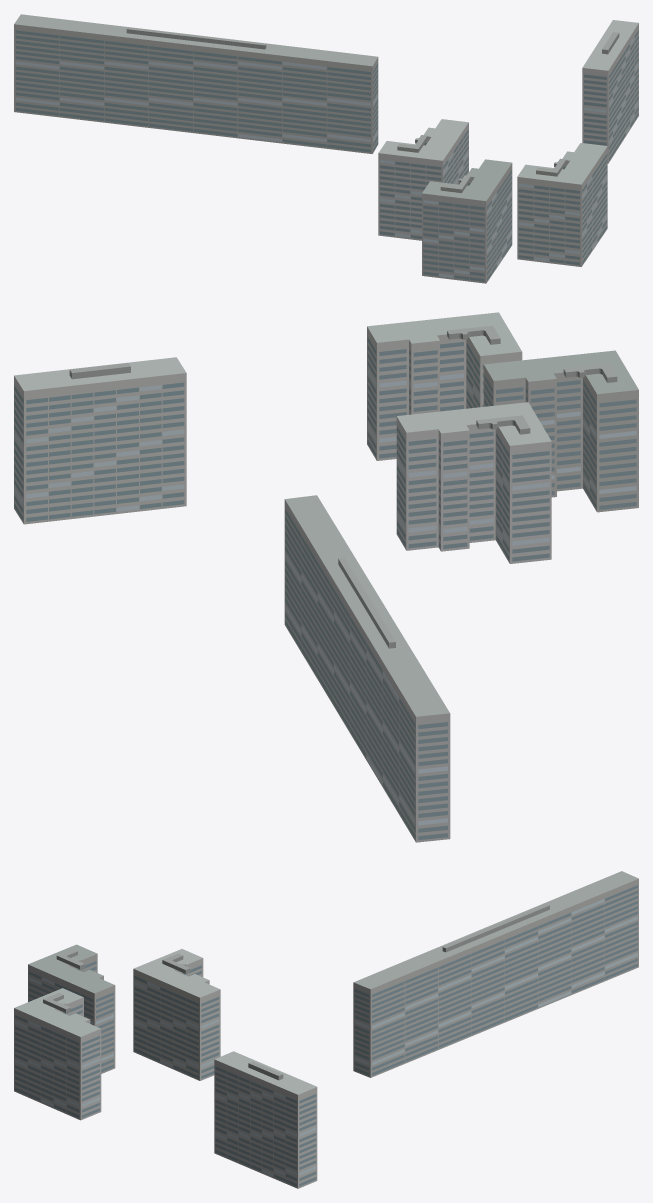
File: apt-a10025675.glb
The picture shows the model from 3 angles, top to bottom: view 1: azimuth 30°, elevation 25°; view 2: azimuth 150°, elevation 25°; view 3: azimuth 270°, elevation 25°; orthographic projection. The views are drawn at different scales.
Visible parts, largest first — view 1: apt-a10025675; view 2: apt-a10025675; view 3: apt-a10025675.
Part boxes in pixels (x1,y1,x2,y2): apt-a10025675: (14,14,638,283); apt-a10025675: (14,312,638,842); apt-a10025675: (14,871,638,1188).
Size of the model in its own units: 270 by 54 by 311.
